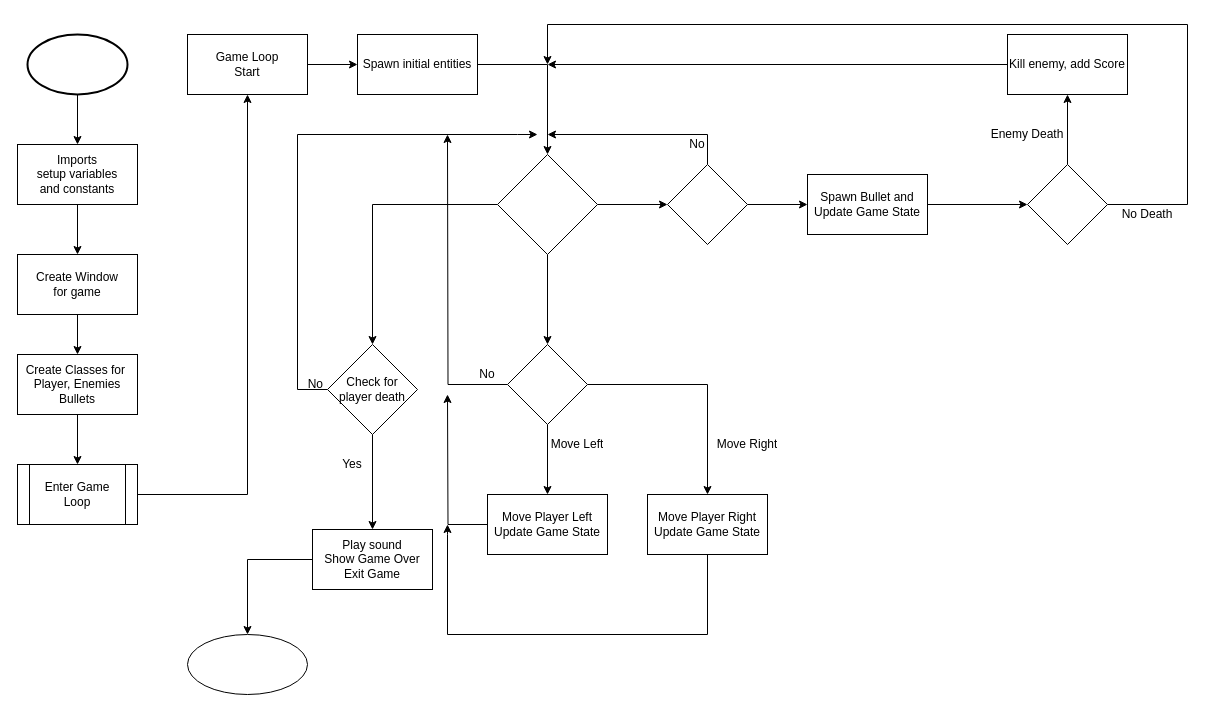
Some shapes in this 1213 by 712 pixel diagram are drawn without their labels. Here are the shapes that lost their labels. From the top down, the centre of each, then its label:
At point (77, 64): "Start".
At point (547, 204): "Game Loop and Player Input".
At point (707, 204): "Player Shoot".
At point (1067, 204): "Check for Enemy Death".
At point (547, 384): "Player Move".
At point (247, 664): "End".
